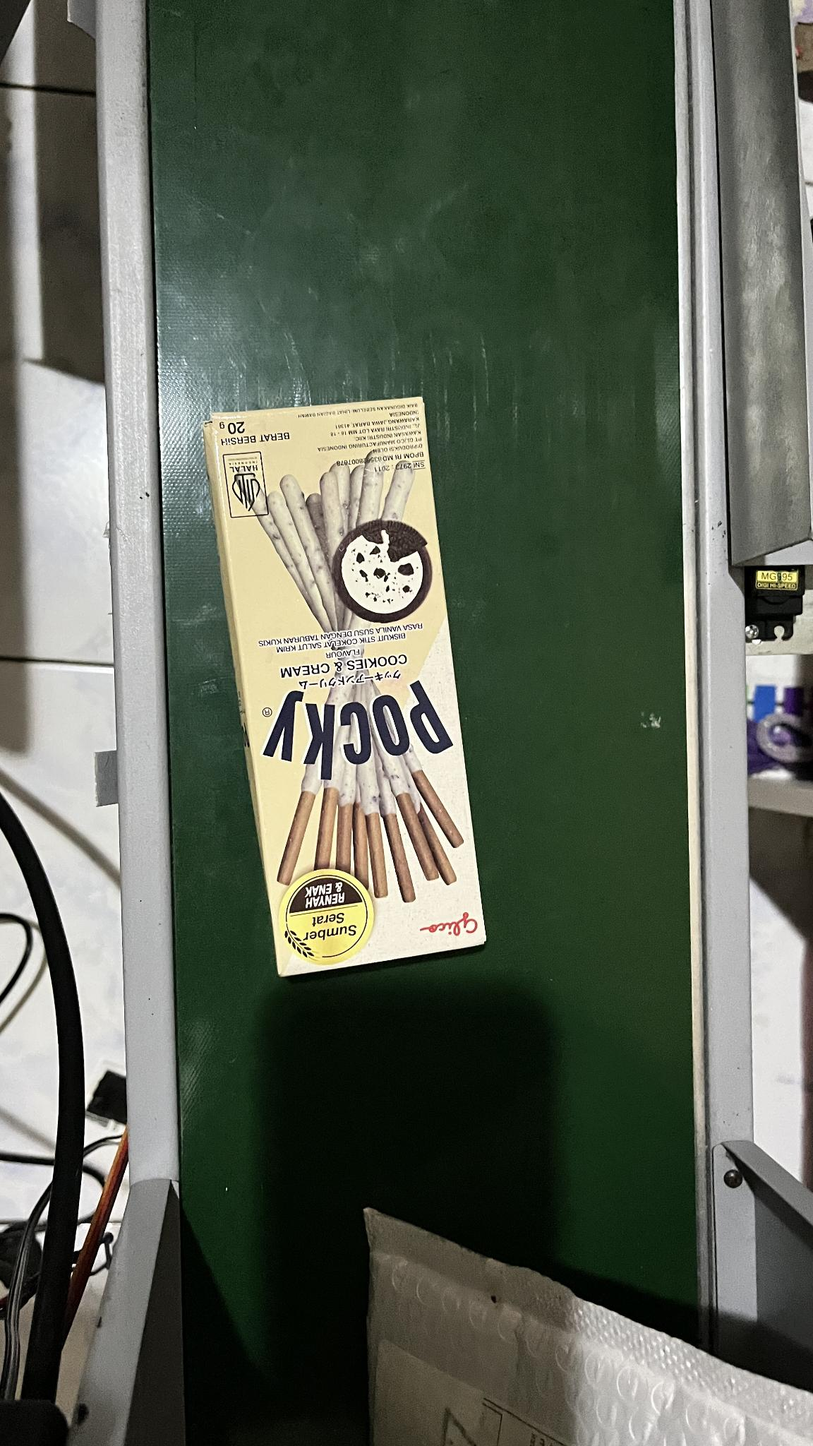Kertas: (215, 409, 502, 968)
